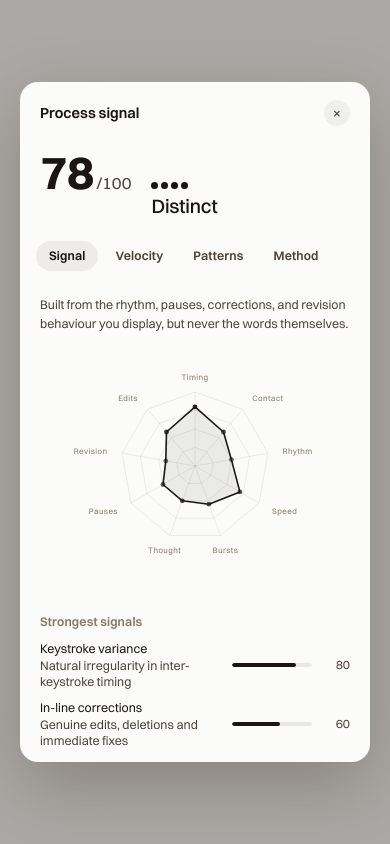
it: HumanSignalPanel › renders the velocity chart with an average baseline
What coordinates should you click on to do the following:
click the tab "Velocity"
I would click on:
 (139, 256)
Its box is [102,241,176,271].
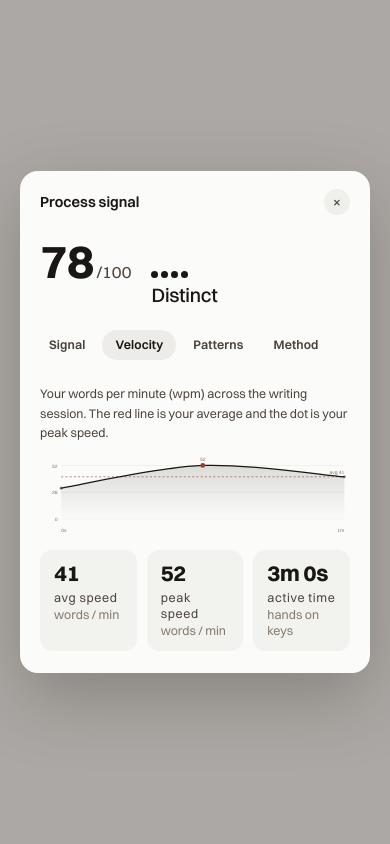
expect the icon with class "hs-chart-svg" is shown: met, box [40,456,350,534]
